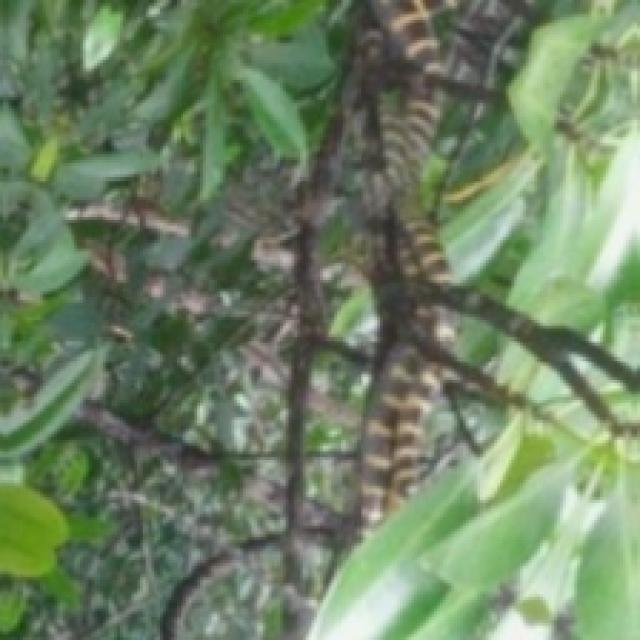mangrove cat snake: (356, 0, 450, 534)
